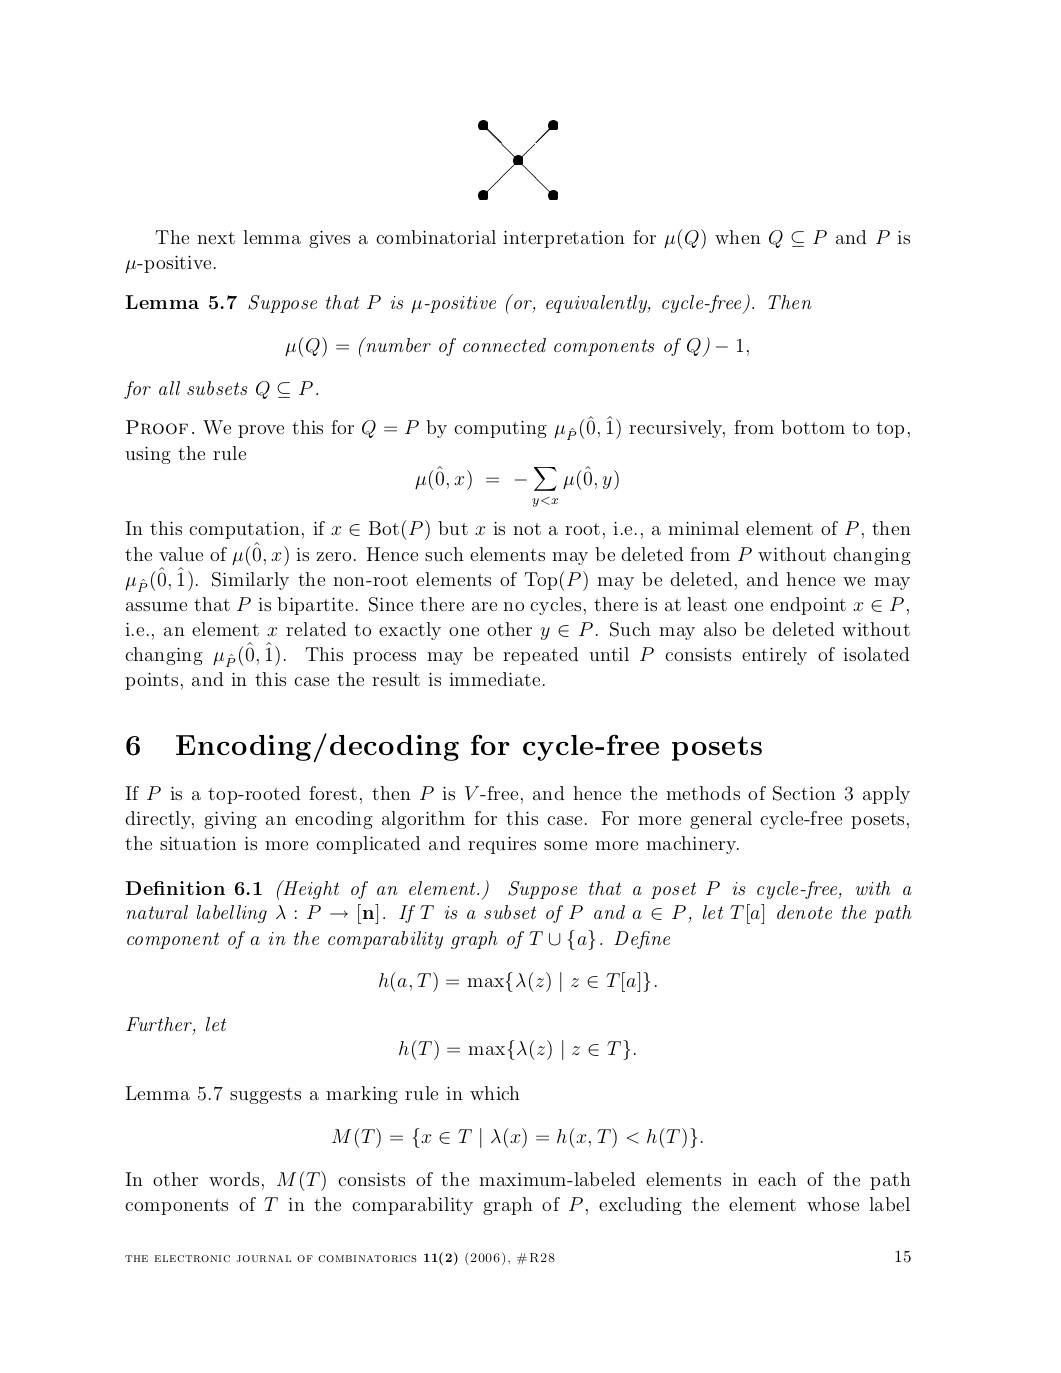figure: (478, 119, 557, 199)
formula: (285, 335, 748, 357), (415, 466, 619, 506), (332, 1127, 702, 1148), (379, 971, 656, 992), (399, 1039, 635, 1060)
